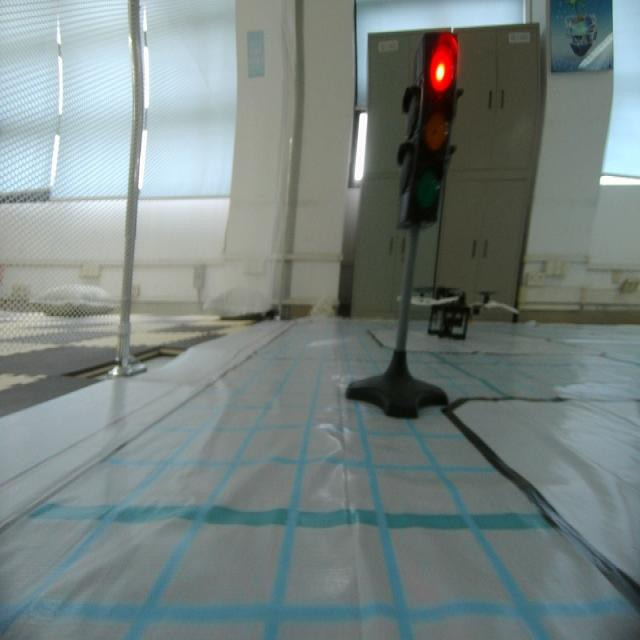red: (405, 29, 465, 250)
